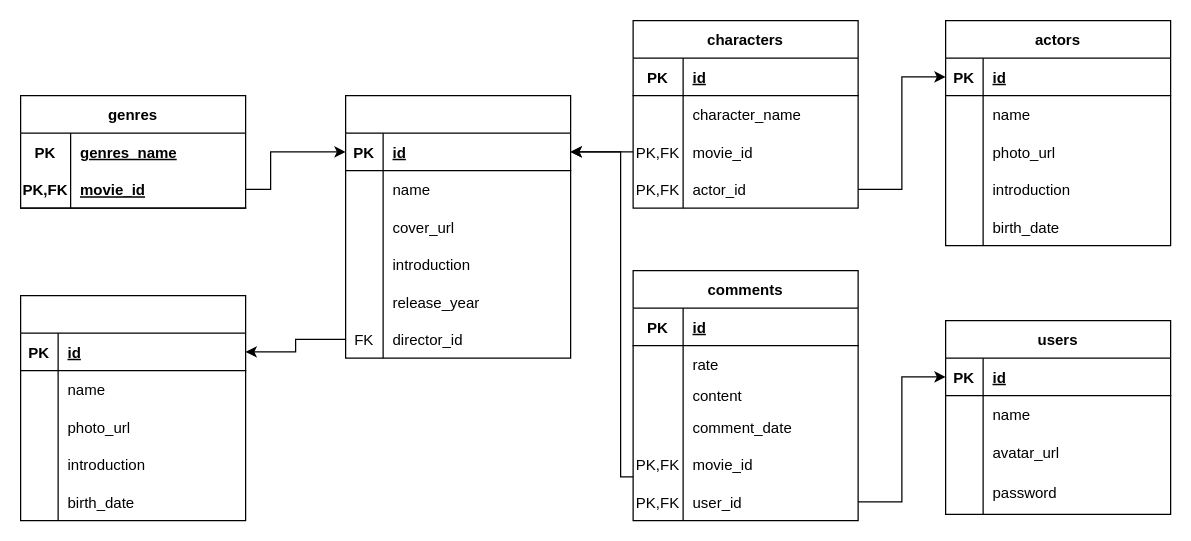
Image size: 1191x541. Some labels were removed from this diagram. The shapes that lost their labels are listed below. From the top down, each one's box as (x1, y1, x2, y2) in pixels, then its label:
(344, 94, 571, 358): movies
(19, 294, 246, 521): directors
